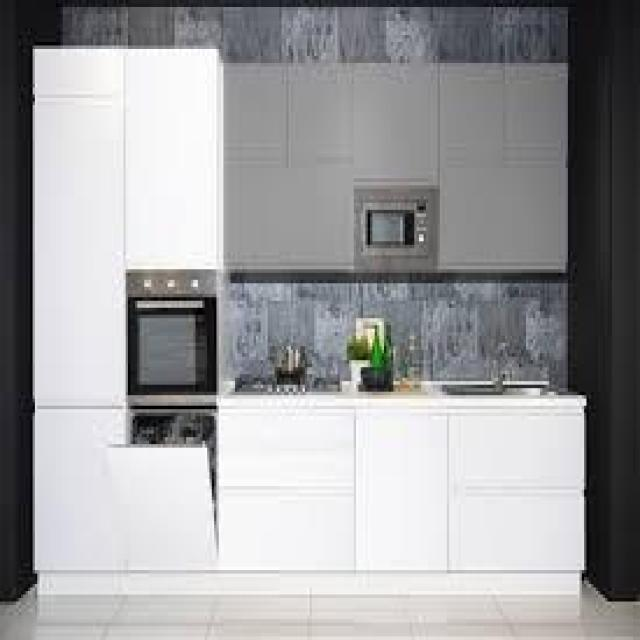dishwasher: (102, 402, 224, 581)
